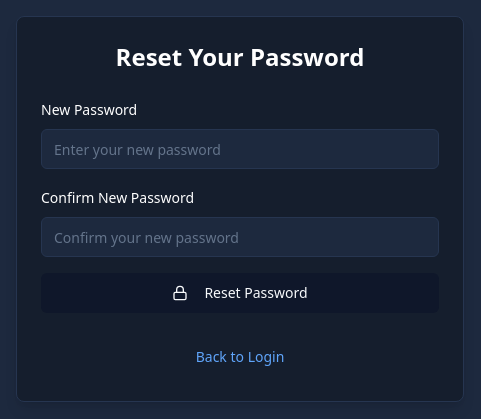
Test: actual password recovery page ownership › keeps a confirmed password update separate from failed cleanup and retries only cleanup
Later steps or results of the test are not shown.
Type "new-fixture-password" into the password field with placeholder "Enter your new password" at [240, 149], box [41,129,439,169]
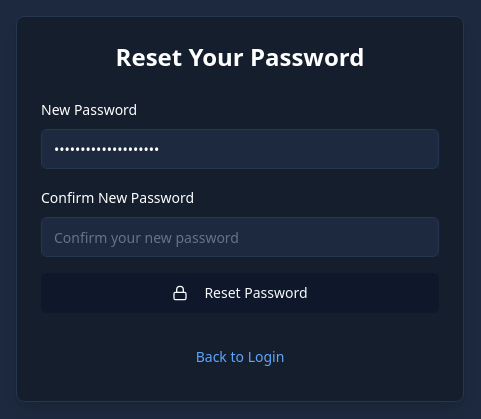
Type "new-fixture-password" into the password field with placeholder "Confirm your new password" at [240, 237], box [41,217,439,257]
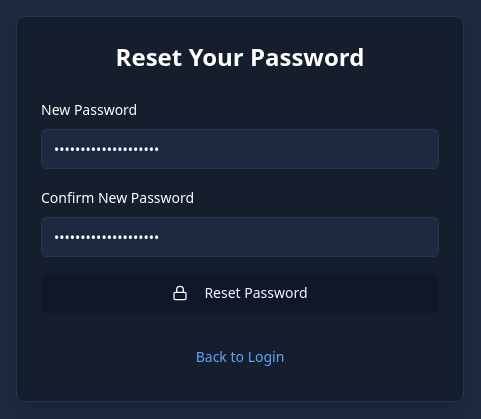
Click the button "Reset Password" at [240, 293], box [41,273,439,313]
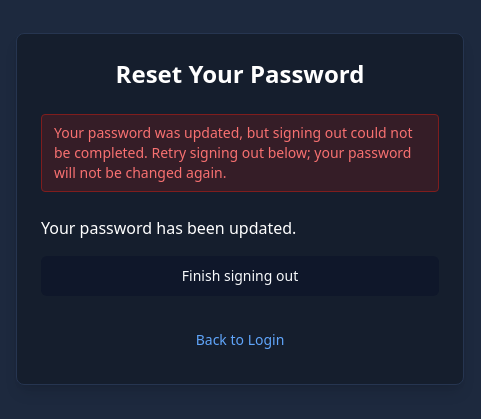
Expected: the text "Your password was updated, but signing out could not be completed" is shown, [54,123,412,182]
Expected: the text "Your password has been updated." is shown, [41,217,296,239]
Expected: the password field with placeholder "Enter your new password" is gone
